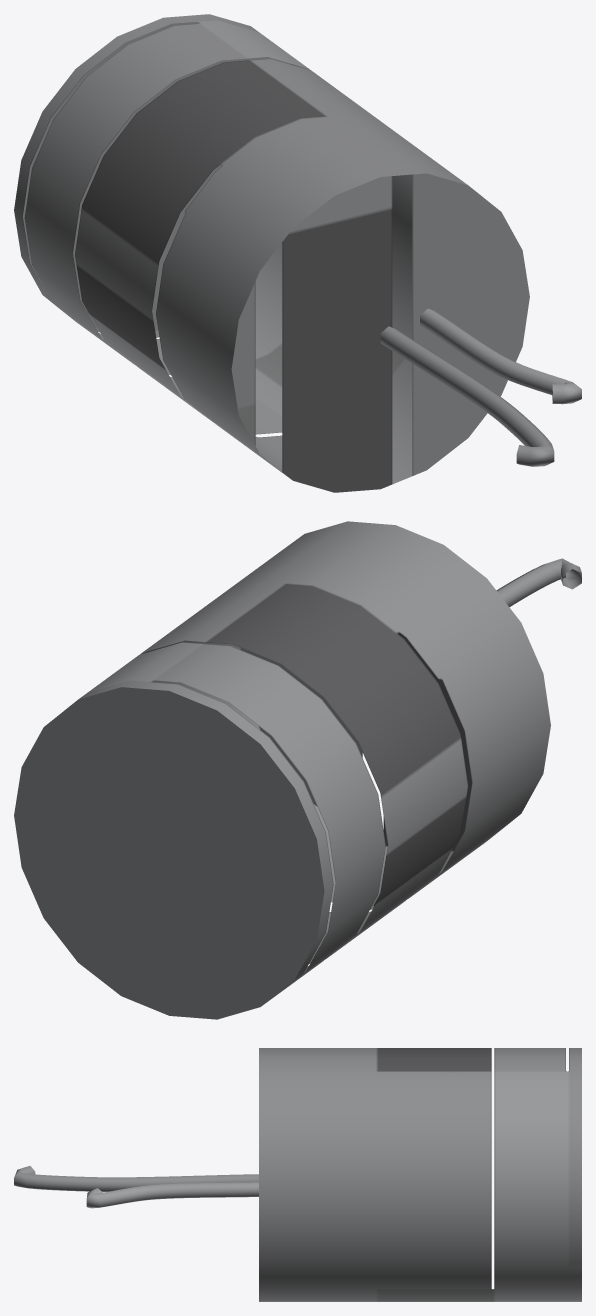
The picture shows the model from 3 angles, top to bottom: view 1: azimuth 30°, elevation 25°; view 2: azimuth 150°, elevation 25°; view 3: azimuth 270°, elevation 25°; orthographic projection. The views are drawn at different scales.
Size of the model in its own units: 0.3496 by 0.3496 by 0.7766.
